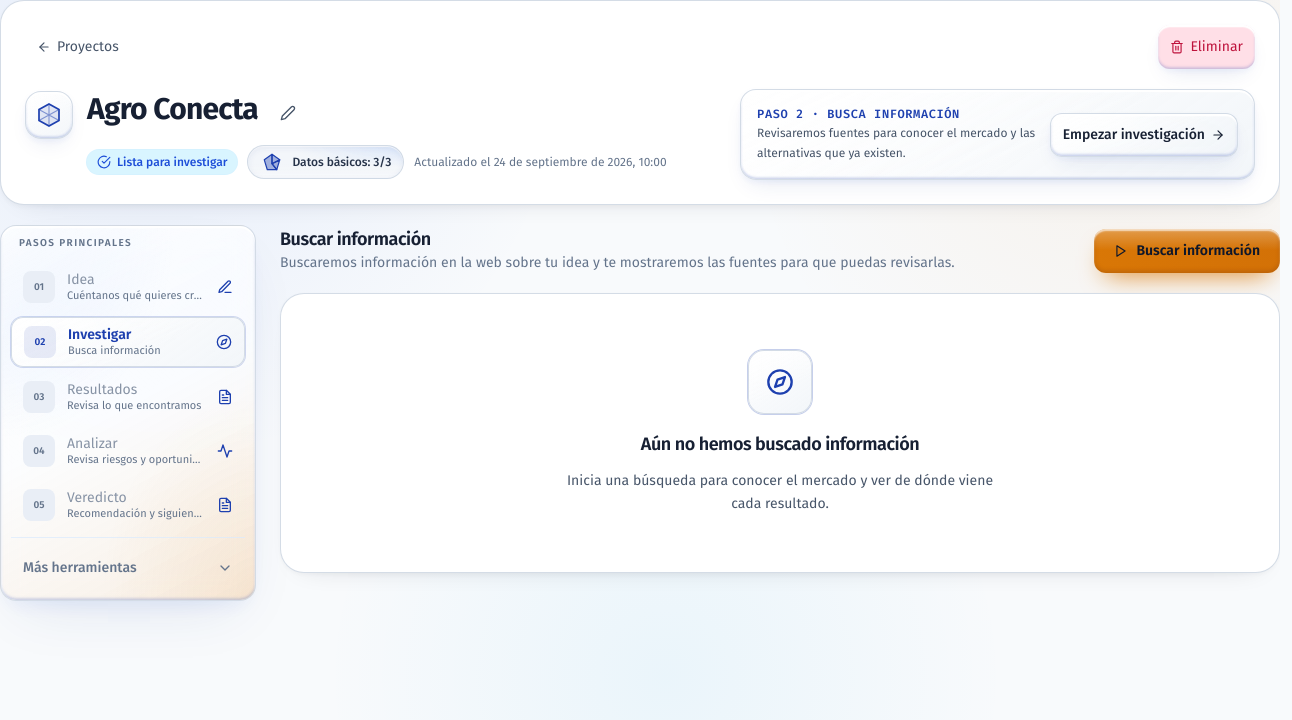
Test case: Iniciar investigación › muestra el motivo si el backend rechaza la investigación
The width and height of the screenshot is (1292, 720).
What coordinates should you click on to do the following:
click the button "Buscar información"
I would click on:
 (1187, 251)
Its box is [1094, 229, 1280, 273].
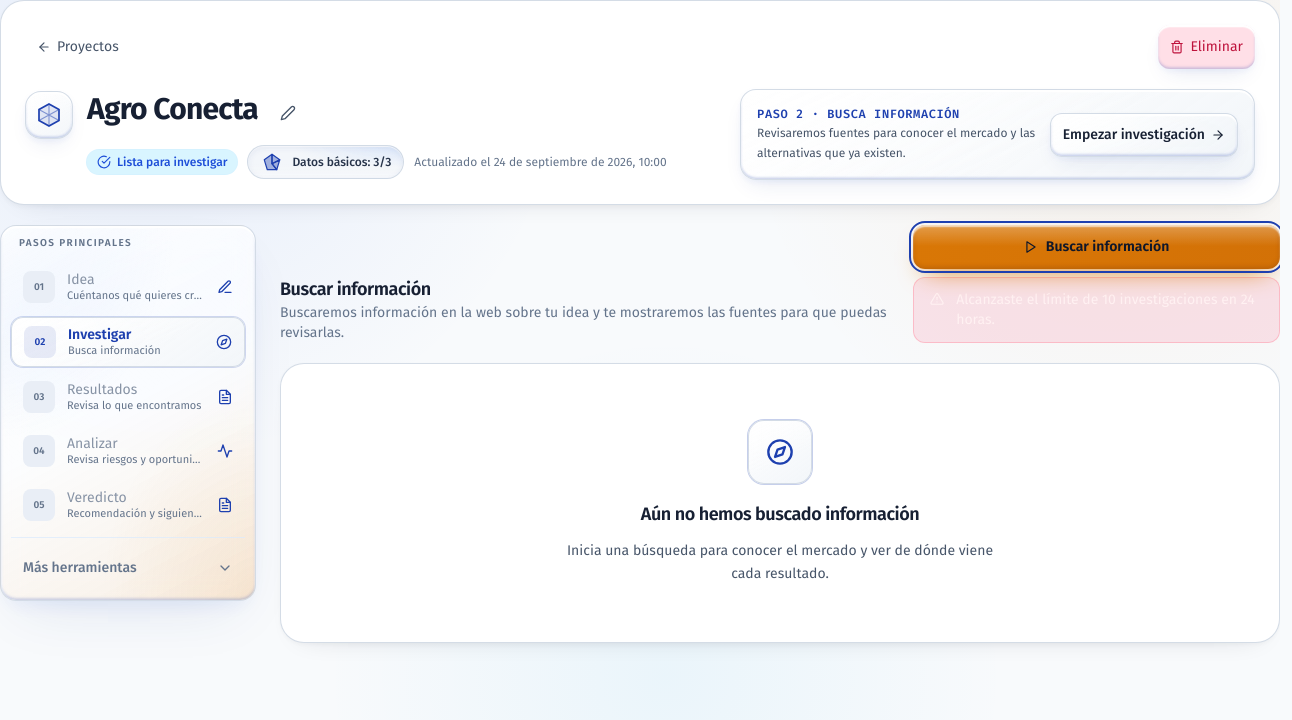
Now the text "Alcanzaste el límite de 10 investigaciones en 24 horas." is shown, box [956, 290, 1263, 330]
